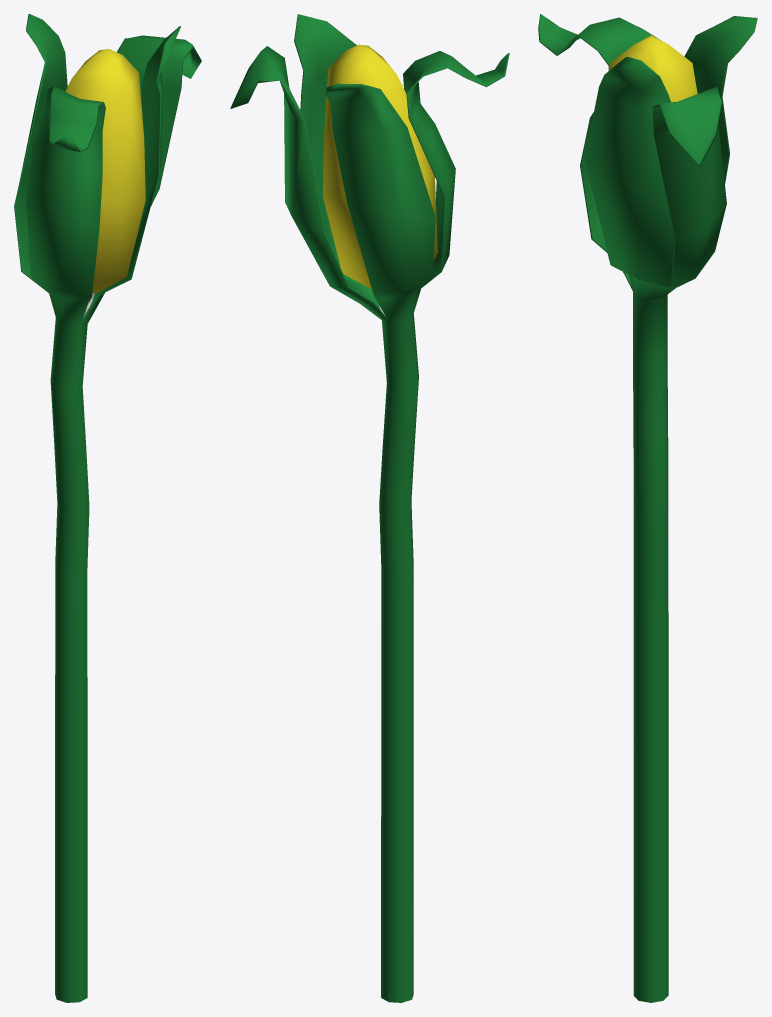
File: Milho.fbx
3 renders of one model, left to right at view 1: azimuth 30°, elevation 25°; view 2: azimuth 150°, elevation 25°; view 3: azimuth 270°, elevation 25°, orthographic. The views are drawn at different scales.
Parts seen in each view (by area): view 1: Milho; view 2: Milho; view 3: Milho.
Boxes of the visible parts, x1,y1,x2,y2 form: Milho: (14,14,201,1002); Milho: (230,14,509,1002); Milho: (538,14,757,1002).
Size of the model in its own units: 78.32 by 344 by 69.28.
